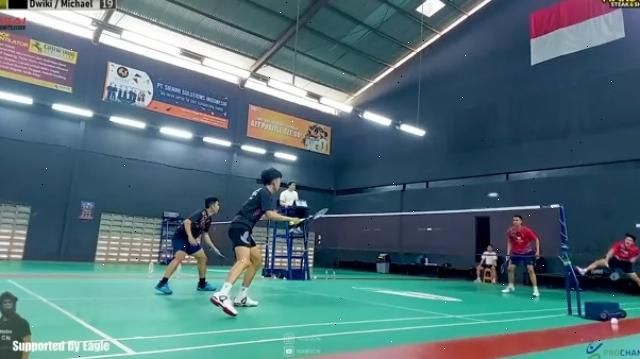Shuttlecock: (486, 189, 498, 198)
